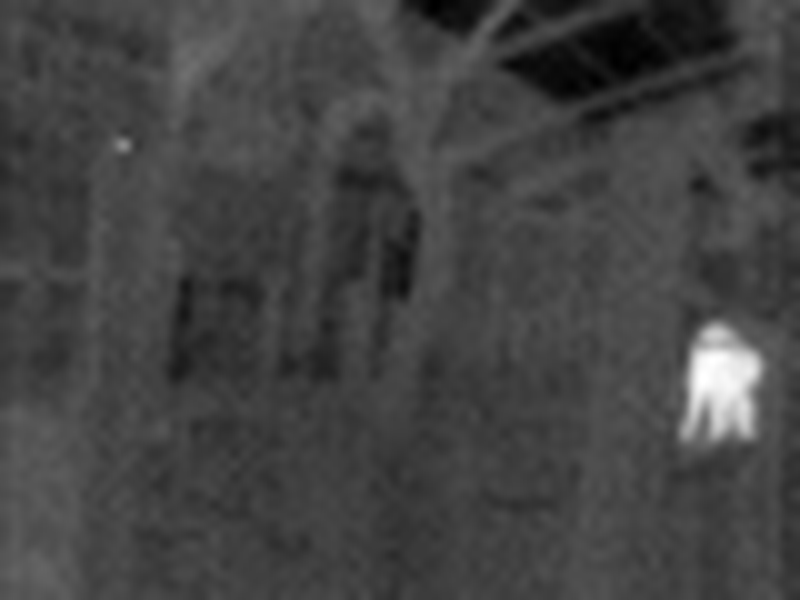elephant: (678, 289, 767, 458)
